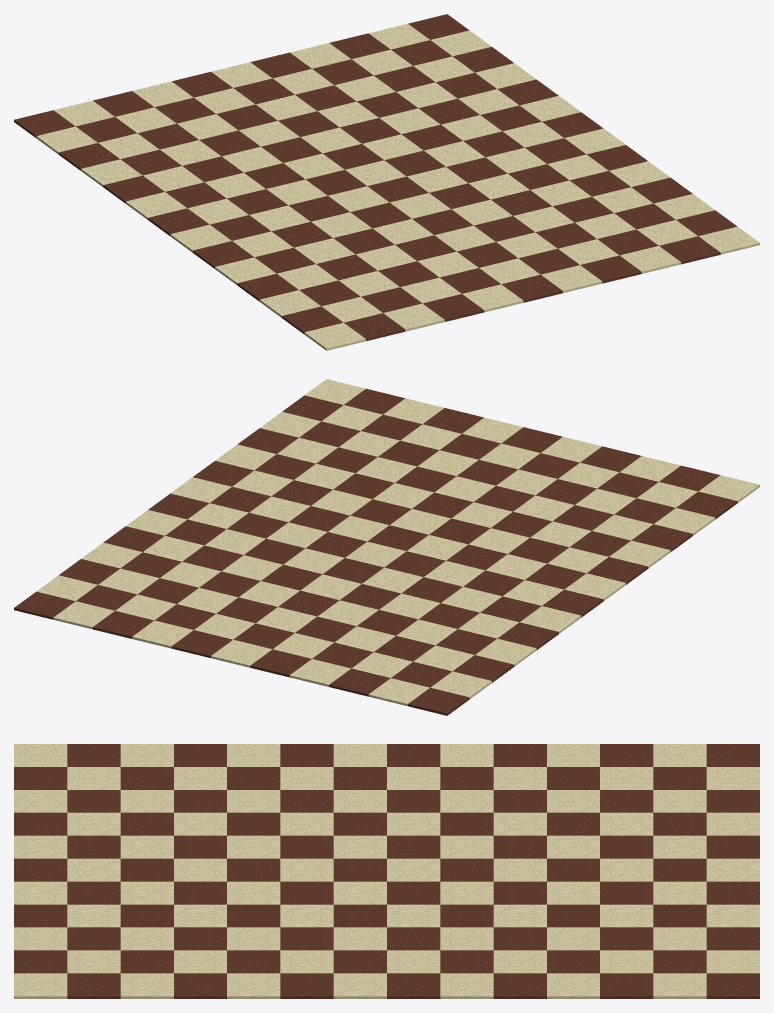
File: alfombra-shaggy-cuadros-rojo-200x250.glb
3 renders of one model, top to bottom at view 1: azimuth 30°, elevation 25°; view 2: azimuth 150°, elevation 25°; view 3: azimuth 270°, elevation 25°, orthographic. The views are drawn at different scales.
Parts seen in each view (by area): view 1: alfombra-shaggy-cuadros-rojo; view 2: alfombra-shaggy-cuadros-rojo; view 3: alfombra-shaggy-cuadros-rojo.
Part boxes in pixels (left/top/right/bottom): alfombra-shaggy-cuadros-rojo: left=14, top=14, right=759, bottom=350; alfombra-shaggy-cuadros-rojo: left=14, top=379, right=759, bottom=715; alfombra-shaggy-cuadros-rojo: left=14, top=744, right=759, bottom=998.
Size of the model in its own units: 2 by 0.01 by 2.5.
2 materials, 2 textured.
